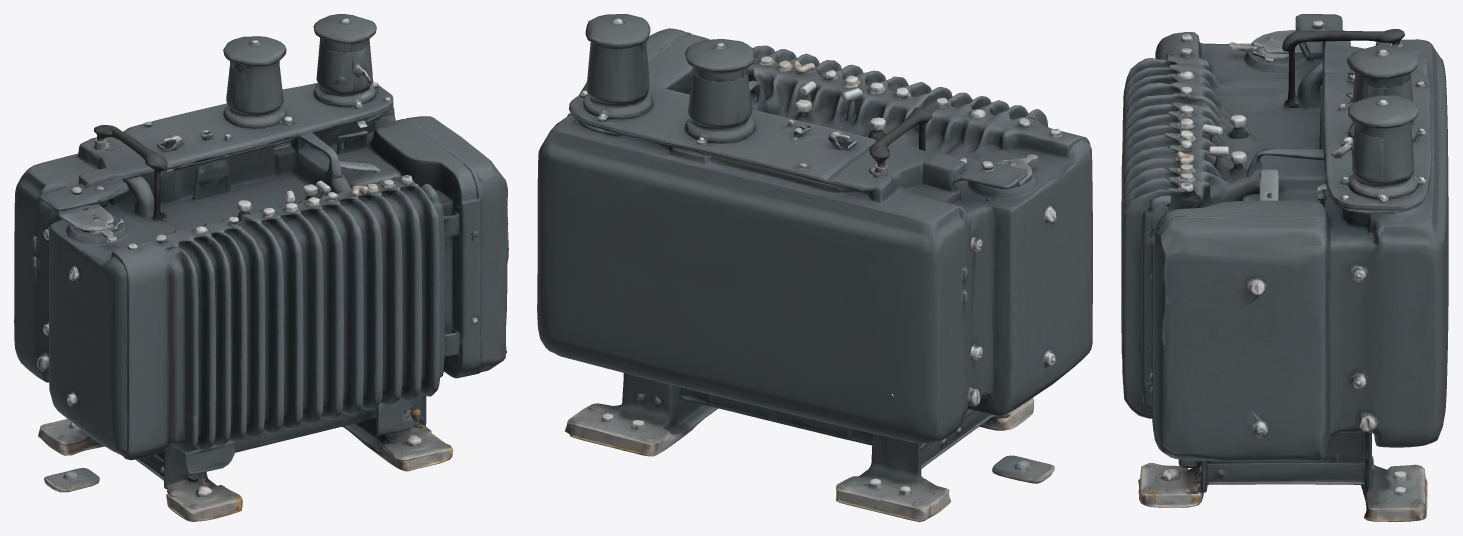
Rendered from transformer.glb.
3 views of the same model, side by side, from view 1: azimuth 30°, elevation 25°; view 2: azimuth 150°, elevation 25°; view 3: azimuth 270°, elevation 25° (orthographic). The views are drawn at different scales.
Size of the model in its own units: 0.9795 by 0.8245 by 0.6015.
1 material, 1 textured.
